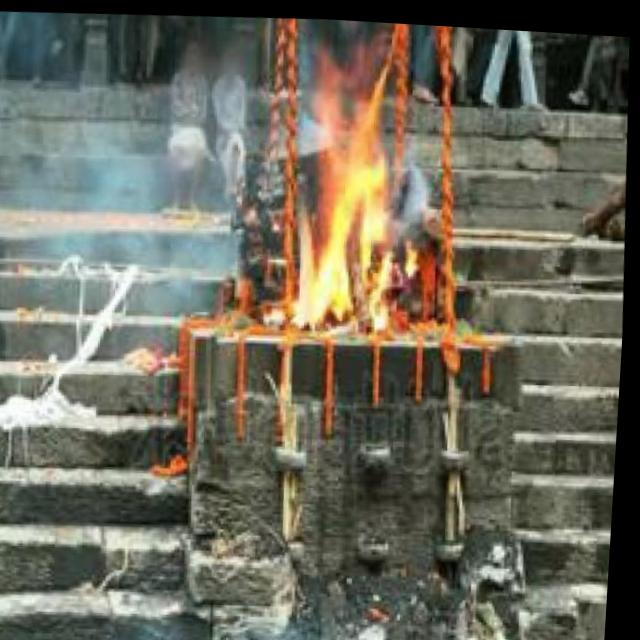Fire: (267, 33, 417, 345)
